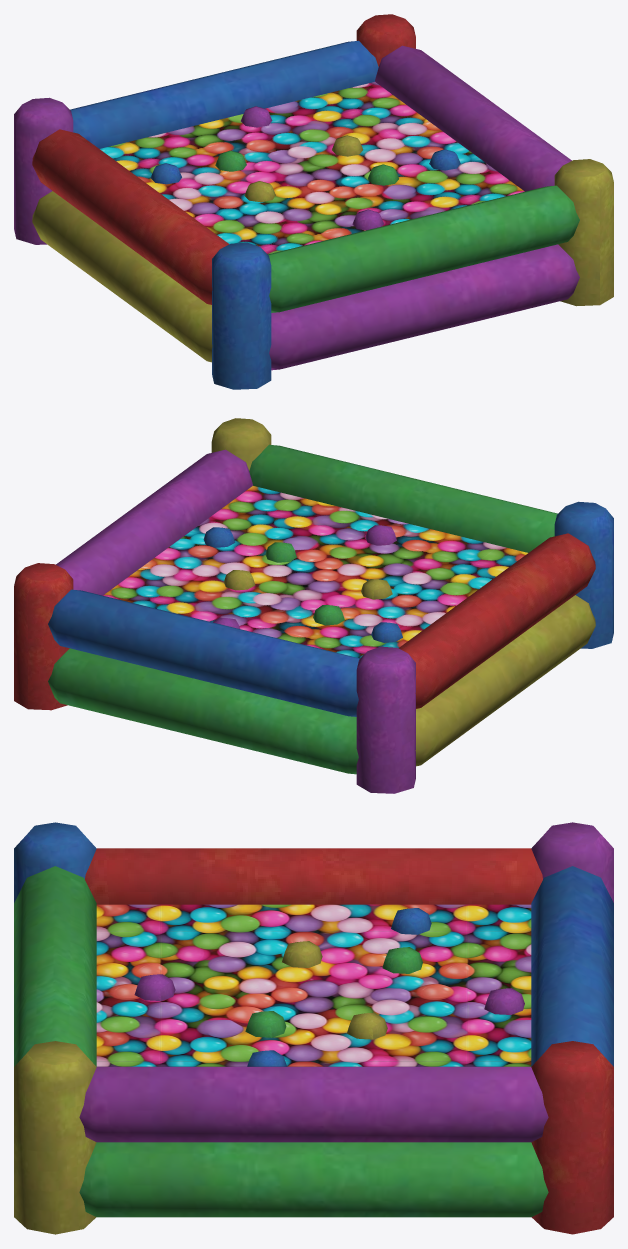
The model's file is Balls(2).glb.
3 renders of one model, top to bottom at view 1: azimuth 30°, elevation 25°; view 2: azimuth 150°, elevation 25°; view 3: azimuth 270°, elevation 25°, orthographic. The views are drawn at different scales.
Visible parts, largest first — view 1: Plane; view 2: Plane; view 3: Plane.
Boxes of the visible parts, left/top/right/bottom form: Plane: left=14, top=14, right=613, bottom=389; Plane: left=14, top=418, right=613, bottom=793; Plane: left=14, top=822, right=613, bottom=1234.
Size of the model in its own units: 2.32 by 0.7 by 2.32.
Materials: 6 (6 with a texture image).
